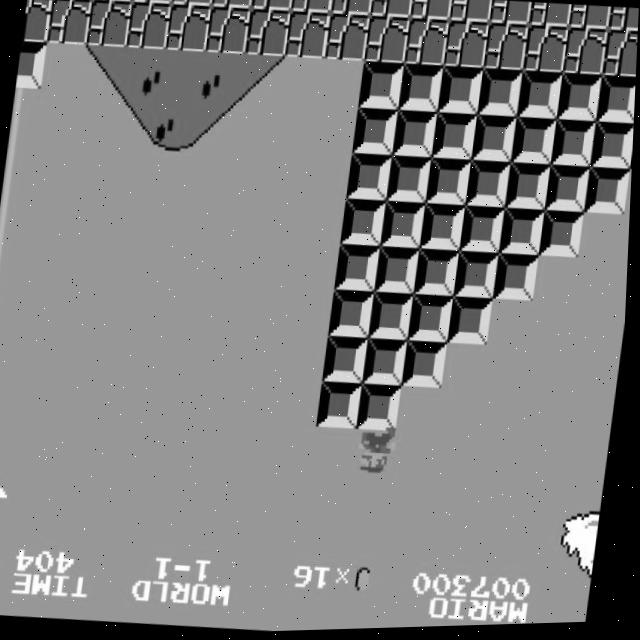11- little_mario: (356, 427, 405, 481)
17- undestructible_block: (562, 29, 609, 79), (522, 27, 569, 77), (483, 24, 530, 74), (443, 22, 490, 72), (403, 19, 450, 69), (364, 16, 411, 66), (324, 14, 371, 64), (284, 11, 331, 61), (244, 9, 291, 59), (205, 6, 252, 56), (165, 4, 212, 54), (125, 1, 172, 51), (86, 0, 132, 48), (45, 0, 92, 46), (602, 32, 638, 82), (21, 0, 53, 43), (568, 7, 612, 34), (528, 4, 572, 31), (489, 2, 533, 29), (449, 0, 493, 26), (409, 0, 453, 23), (369, 0, 413, 21), (607, 9, 639, 36), (330, 0, 373, 18), (289, 0, 333, 15), (249, 0, 293, 13), (210, 0, 254, 10), (171, 0, 214, 8), (131, 0, 174, 5)
7- goal_pole: (10, 87, 42, 135), (0, 178, 31, 226), (5, 133, 36, 181), (0, 224, 25, 272), (0, 269, 20, 317), (0, 314, 14, 363), (0, 361, 8, 409), (0, 406, 3, 453)
9- hard_block: (551, 120, 598, 171), (330, 290, 377, 341), (540, 212, 587, 262), (500, 209, 547, 259), (511, 118, 558, 168), (517, 72, 564, 122), (449, 298, 496, 348), (472, 115, 519, 165), (477, 70, 524, 120), (404, 341, 451, 391), (432, 113, 479, 163), (364, 338, 411, 388), (381, 202, 428, 252), (392, 110, 439, 160), (585, 170, 632, 219), (494, 256, 541, 305), (455, 253, 502, 302), (466, 162, 513, 211), (415, 251, 462, 300), (426, 159, 473, 208), (375, 248, 422, 297), (386, 157, 433, 206), (319, 382, 366, 431), (336, 245, 383, 294), (347, 154, 394, 203), (557, 75, 603, 125), (461, 207, 507, 257), (410, 296, 456, 346), (421, 204, 467, 254), (438, 68, 484, 118), (370, 293, 416, 343), (398, 65, 444, 115), (325, 336, 371, 386), (342, 199, 388, 249), (353, 108, 399, 158), (358, 63, 404, 113), (546, 167, 592, 216), (506, 165, 552, 214), (359, 385, 405, 434), (590, 123, 635, 173), (596, 77, 637, 127), (16, 41, 48, 90)
